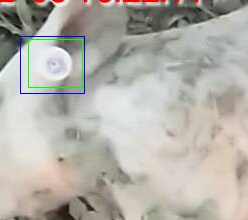text: (28, 39, 82, 87)
